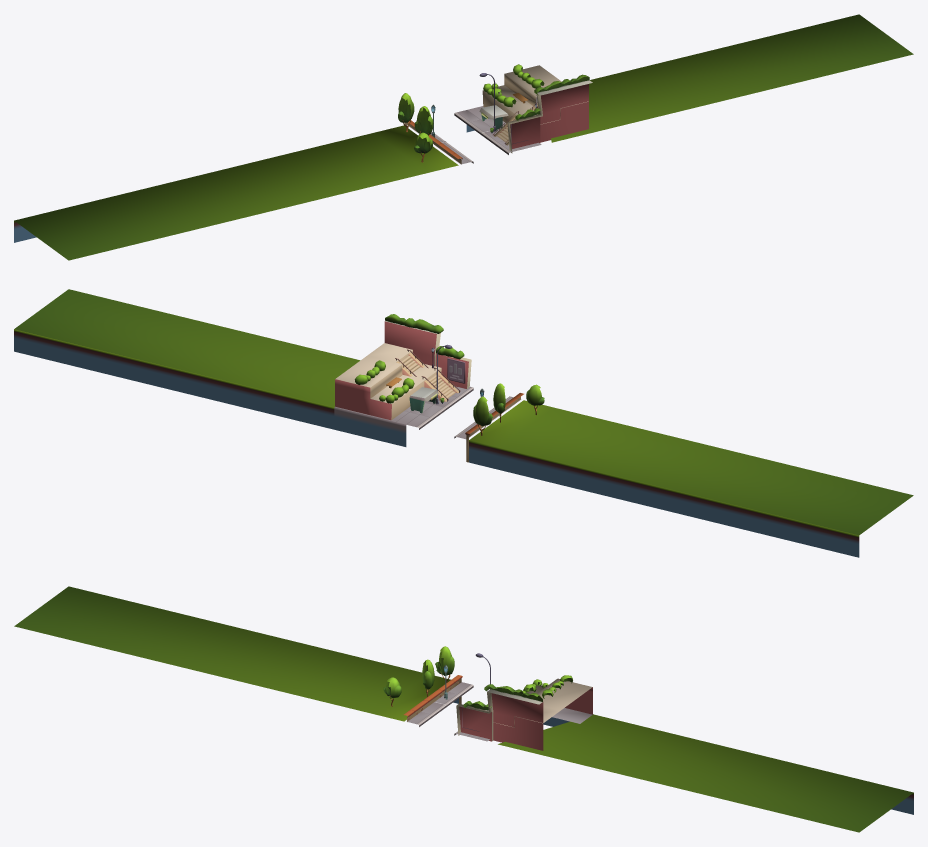
File: Tom1_CityParkSet01_10.fbx
3 views of the same model, one above another, from view 1: azimuth 30°, elevation 25°; view 2: azimuth 150°, elevation 25°; view 3: azimuth 330°, elevation 25° (orthographic).
Parts seen in each view (by area): view 1: Tom1_CityParkSet01_10; view 2: Tom1_CityParkSet01_10; view 3: Tom1_CityParkSet01_10.
Boxes of the visible parts, x1,y1,x2,y2 form: Tom1_CityParkSet01_10: (14,14,913,260); Tom1_CityParkSet01_10: (14,289,913,557); Tom1_CityParkSet01_10: (14,586,913,832).
Bounding box in the file's own units: 8921 × 846 × 1002.
